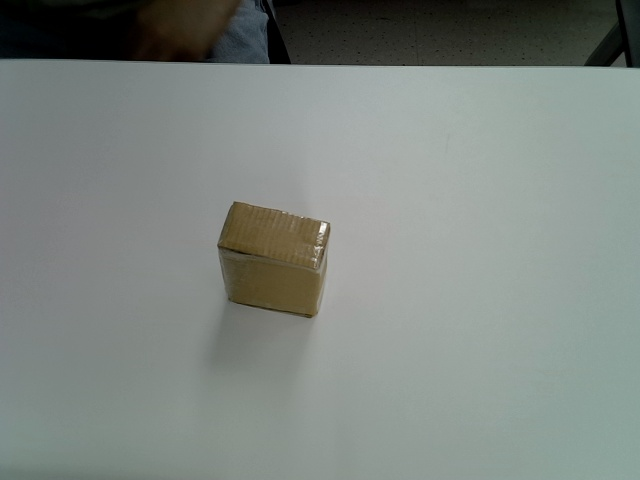normal: (217, 200, 332, 318)
